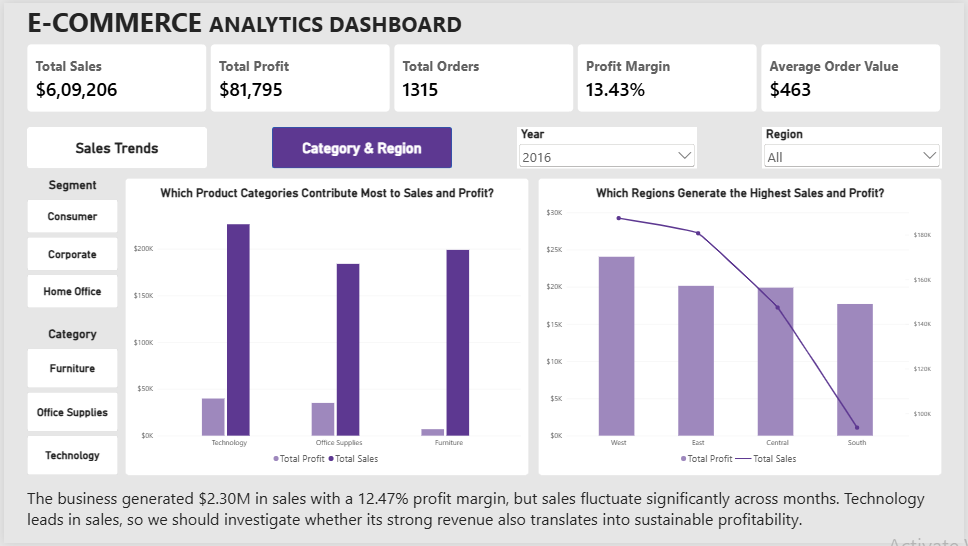

This screenshot's page, from the dashboard's own definition file:
{"tool":"powerbi","page":{"name":"Executive Overview","canvas":[1920,1080],"ordinal":0},"visuals":[{"type":"cardVisual","fields":{"Data":["_Measures.Total Sales","_Measures.Total Profit","_Measures.Total Orders","_Measures.Profit Margin","_Measures.Average Order Value"]},"box":[45,82.5,1830.4,136.6],"z":0},{"type":"slicer","fields":{"Values":["date_dim.Year"]},"box":[1025,247.5,360,82.5],"z":1000},{"type":"slicer","title":"Region","fields":{"Values":["geography_dim.region"]},"box":[1515,247.5,360,82.5],"z":2000},{"type":"advancedSlicerVisual","title":"Category","fields":{"Values":["product_dim.category"]},"box":[45,647.5,182.5,297.5],"z":3000},{"type":"textbox","box":[45,0,942.5,82.5],"z":4000},{"type":"advancedSlicerVisual","title":"Segment","fields":{"Values":["customer_dim.segment"]},"box":[45,350,182.5,262.5],"z":5000},{"type":"shape","box":[45,247.5,360,82.5],"z":6000},{"type":"shape","box":[535,247.5,360,82.5],"z":9000},{"type":"clusteredColumnChart","title":"Which Product Categories Contribute Most to Sales and Profit?","fields":{"Category":["product_dim.category"],"Y":["_Measures.Total Profit","_Measures.Total Sales"]},"box":[242.5,350,807.5,595],"z":10000},{"type":"lineClusteredColumnComboChart","title":"Which Regions Generate the Highest Sales and Profit?","fields":{"Category":["geography_dim.region"],"Y":["_Measures.Total Profit"],"Y2":["_Measures.Total Sales"]},"box":[1067.5,350,807.5,595],"z":11000},{"type":"textbox","box":[45,965,1827.5,92.5],"z":13001}]}

Visuals, with their boxes in screenshot pixels (x1, y1, x2, y2), scaled from the page's 1920x1080 canvas onto the 968x546 screenshot:
cardVisual - _Measures.Total Sales x _Measures.Total Profit: (left=23, top=42, right=946, bottom=111)
slicer - date_dim.Year: (left=517, top=125, right=698, bottom=167)
"Region" slicer: (left=764, top=125, right=945, bottom=167)
"Category" advancedSlicerVisual: (left=23, top=327, right=115, bottom=478)
textbox: (left=23, top=0, right=498, bottom=42)
"Segment" advancedSlicerVisual: (left=23, top=177, right=115, bottom=310)
shape: (left=23, top=125, right=204, bottom=167)
shape: (left=270, top=125, right=451, bottom=167)
"Which Product Categories Contribute Most to Sales and Profit?" clusteredColumnChart: (left=122, top=177, right=529, bottom=478)
"Which Regions Generate the Highest Sales and Profit?" lineClusteredColumnComboChart: (left=538, top=177, right=945, bottom=478)
textbox: (left=23, top=488, right=944, bottom=535)
